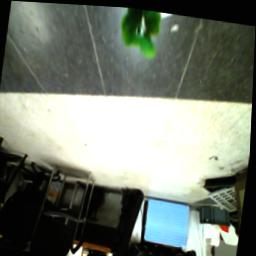herb: (117, 6, 167, 63)
